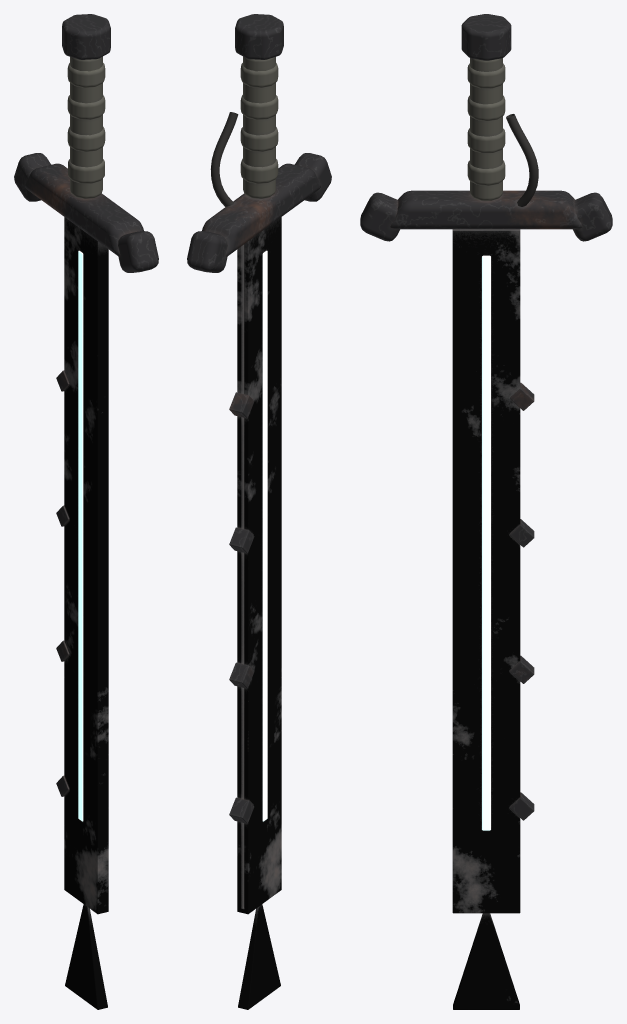
File: hoja_androide.glb
3 renders of one model, left to right at view 1: azimuth 30°, elevation 25°; view 2: azimuth 150°, elevation 25°; view 3: azimuth 270°, elevation 25°, orthographic.
Parts seen in each view (by area): view 1: hoja_androide; view 2: hoja_androide; view 3: hoja_androide.
Boxes of the visible parts, <box> form: hoja_androide: <box>14,14,158,1009</box>; hoja_androide: <box>187,14,331,1009</box>; hoja_androide: <box>360,14,612,1009</box>.
Size of the model in its own units: 0.0683 by 1.37 by 0.3185.
2 materials, 1 textured.
